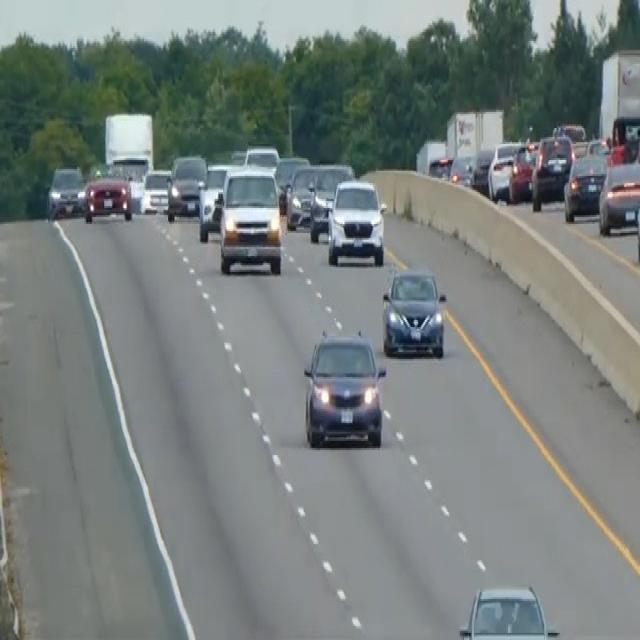car: (381, 265, 447, 359), (457, 582, 560, 636), (326, 176, 386, 267), (308, 162, 355, 242), (197, 160, 242, 242), (531, 132, 574, 210), (597, 158, 639, 235), (563, 151, 608, 221), (83, 164, 132, 222), (166, 153, 207, 220), (285, 162, 319, 229), (487, 139, 523, 201), (46, 164, 85, 218), (274, 153, 310, 211), (508, 138, 539, 202), (609, 112, 639, 164), (140, 167, 171, 213), (470, 146, 494, 194), (244, 142, 279, 171), (448, 151, 475, 187), (427, 153, 453, 179), (635, 176, 639, 265)
lorry: (103, 108, 155, 192)
minivan: (301, 325, 387, 450), (215, 162, 283, 276)
